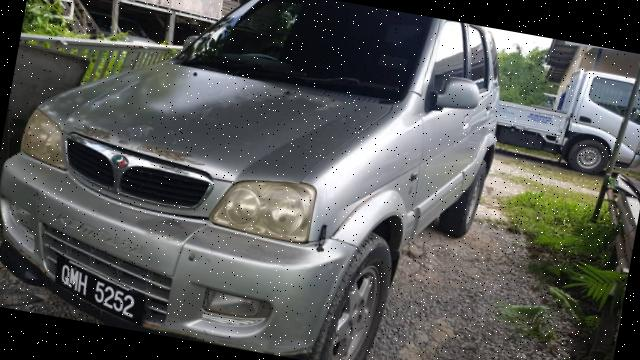License_Plate: (50, 256, 153, 329)
